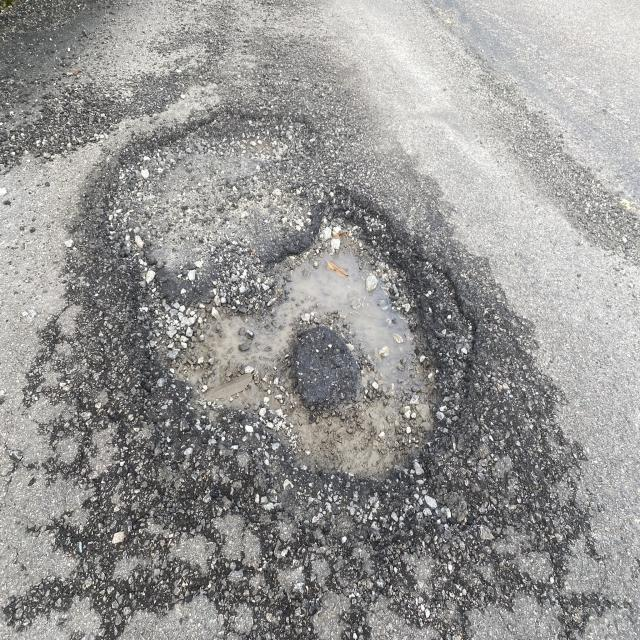pothole: (122, 149, 500, 545)
